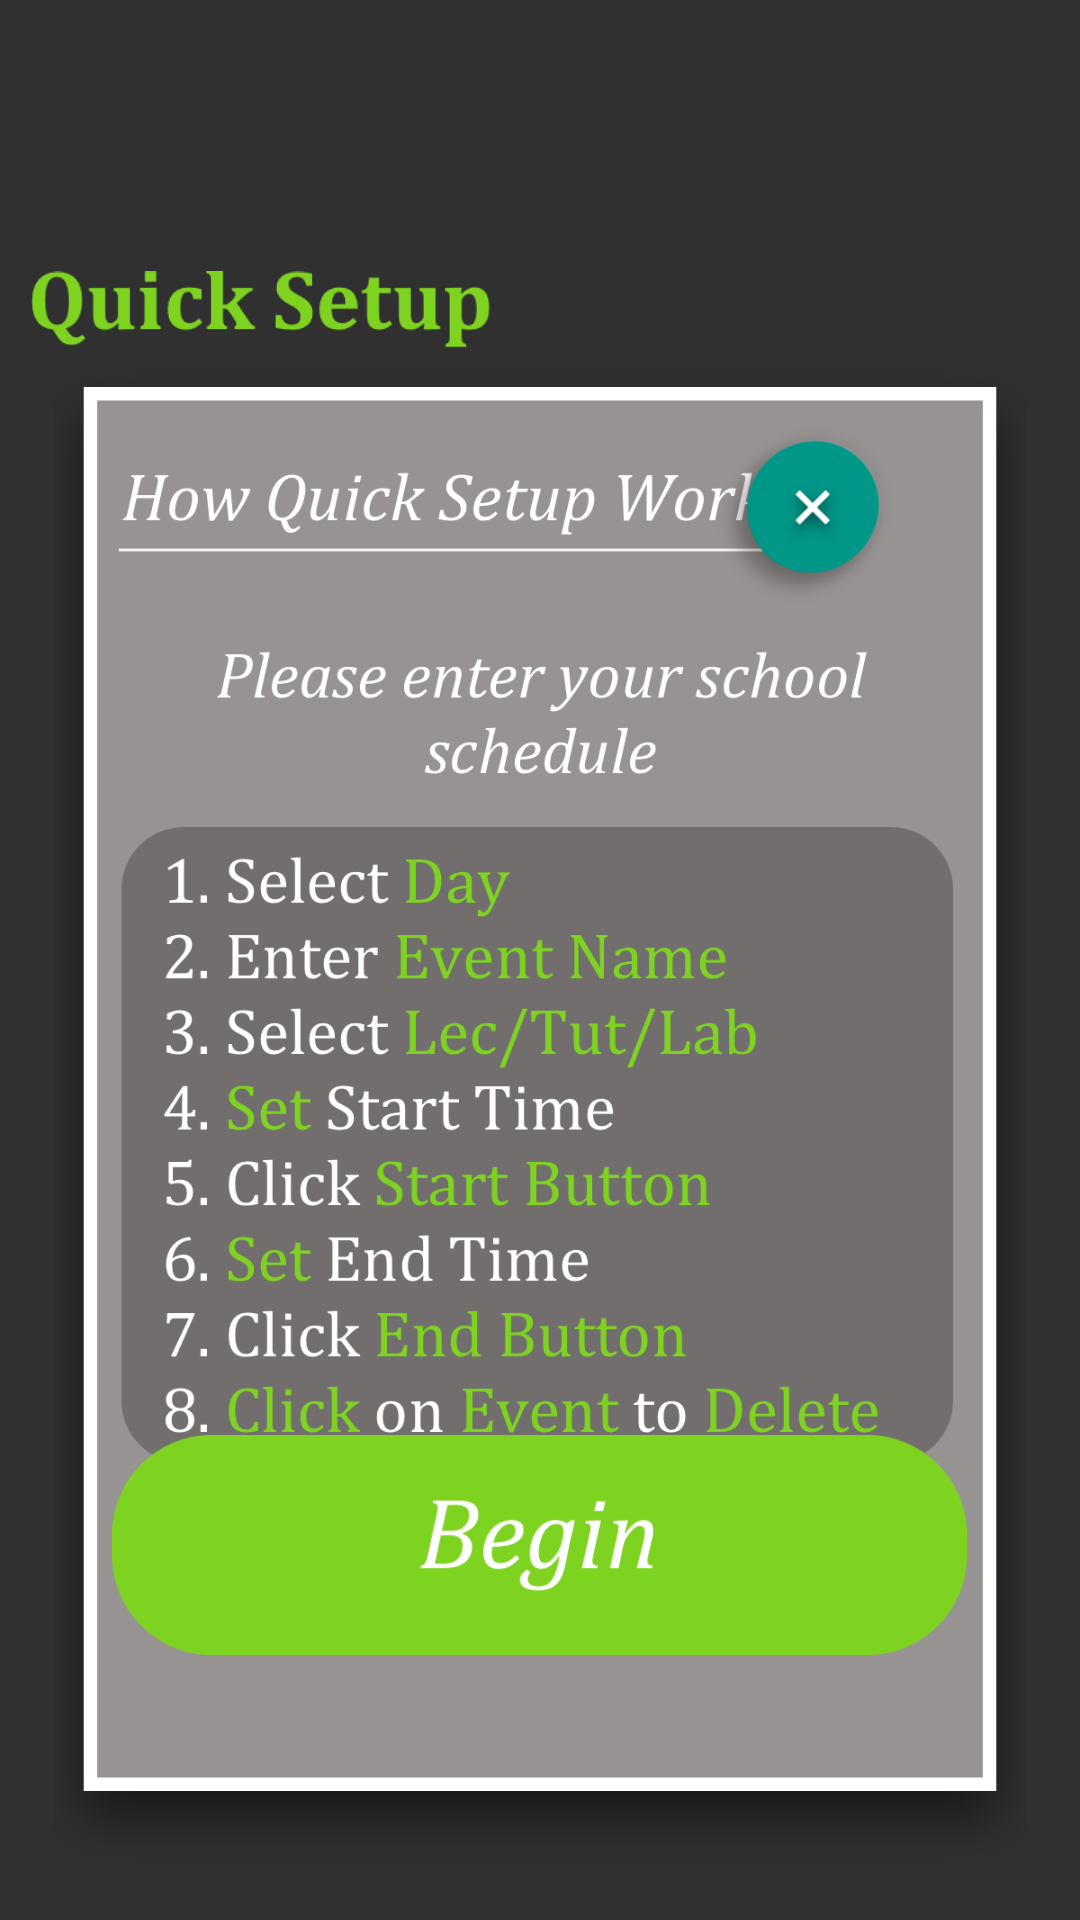

Screen size 1080w x 1920h. Icon name, then its box in pixels as (x1, y1, x2, y2):
close: (717, 440, 880, 584)
